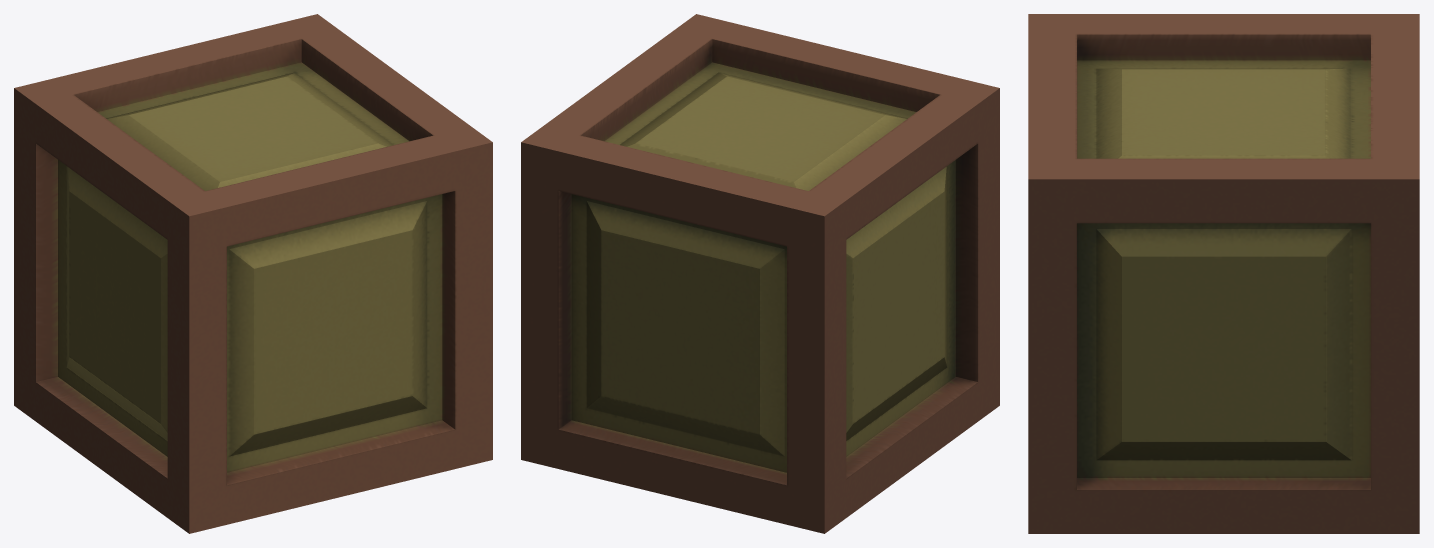
Rendered from Boxes.FBX.
3 views of the same model, side by side, from view 1: azimuth 30°, elevation 25°; view 2: azimuth 150°, elevation 25°; view 3: azimuth 270°, elevation 25° (orthographic). The views are drawn at different scales.
Parts seen in each view (by area): view 1: Boxes; view 2: Boxes; view 3: Boxes.
Boxes of the visible parts, left/top/right/bottom form: Boxes: left=14, top=14, right=492, bottom=533; Boxes: left=521, top=14, right=999, bottom=533; Boxes: left=1028, top=14, right=1419, bottom=533.
Bounding box in the file's own units: 30 × 30 × 30.
